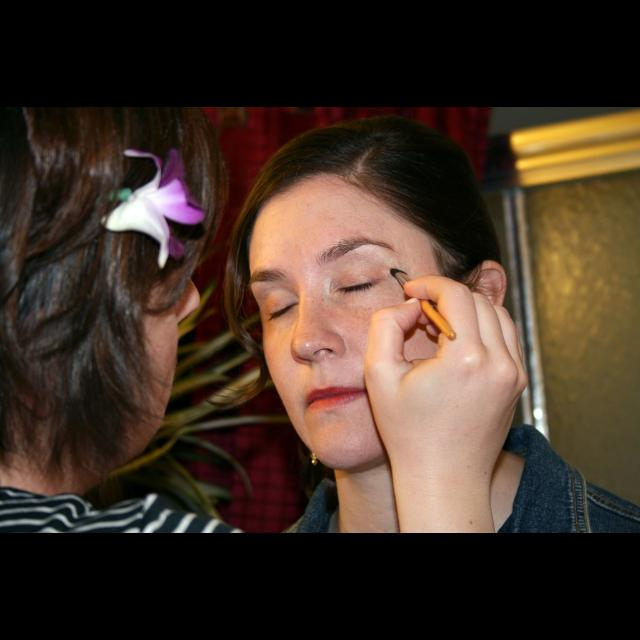Flower: (96, 160, 212, 266)
